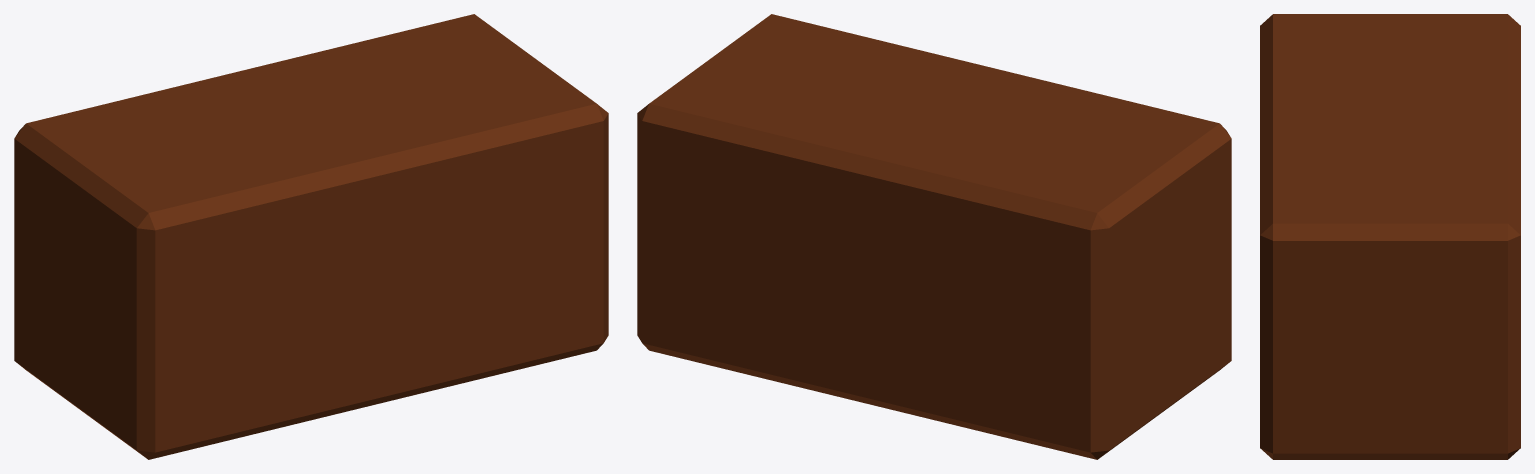
File: brick_2.glb
3 renders of one model, left to right at view 1: azimuth 30°, elevation 25°; view 2: azimuth 150°, elevation 25°; view 3: azimuth 270°, elevation 25°, orthographic. The views are drawn at different scales.
Visible parts, largest first — view 1: Cube.002; view 2: Cube.002; view 3: Cube.002.
Boxes of the visible parts, bbox=[...] form: Cube.002: bbox=[14, 14, 608, 459]; Cube.002: bbox=[637, 14, 1231, 459]; Cube.002: bbox=[1260, 14, 1520, 459].
Size of the model in its own units: 0.4 by 0.2 by 0.1999.
